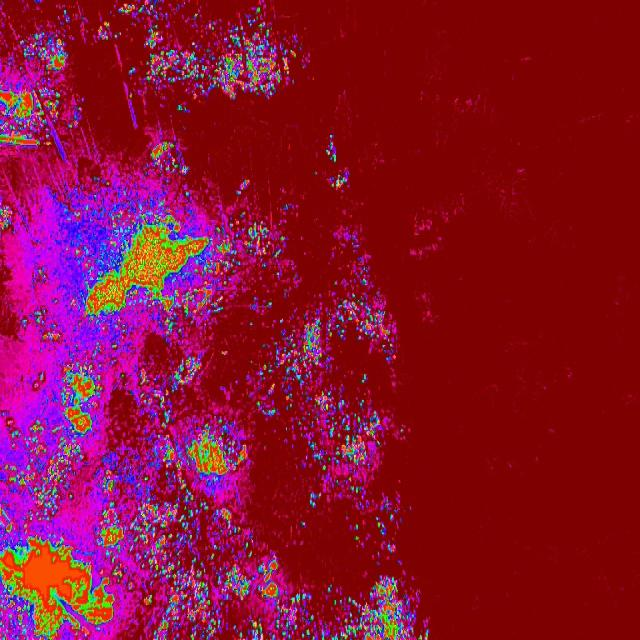fire: (262, 298, 410, 504), (93, 0, 305, 114), (130, 499, 292, 640), (74, 204, 232, 326), (0, 532, 124, 636), (0, 416, 87, 536), (291, 573, 439, 639), (54, 342, 118, 440), (129, 355, 210, 417), (143, 414, 195, 502), (0, 82, 59, 150), (17, 24, 78, 81), (186, 424, 250, 478), (96, 468, 132, 556), (233, 215, 288, 266), (144, 135, 190, 177), (19, 308, 63, 349), (328, 168, 353, 194), (0, 200, 14, 235), (235, 177, 252, 201), (324, 132, 336, 162)
